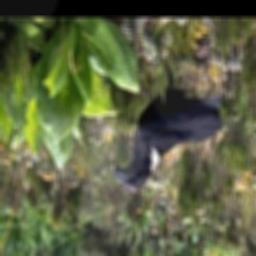Crow: (112, 62, 225, 194)
